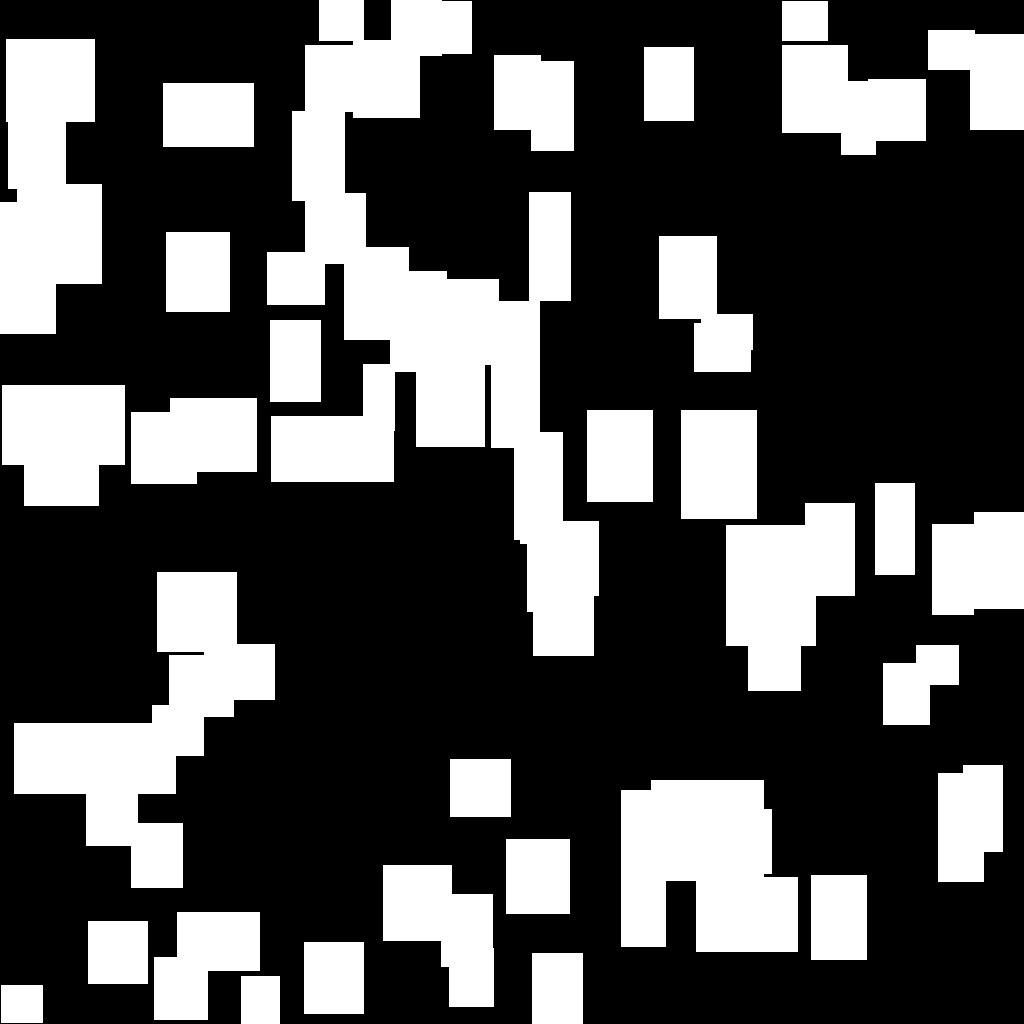wheat_head: (14, 723, 175, 793), (651, 780, 763, 880), (726, 525, 815, 645), (2, 385, 124, 464), (17, 184, 101, 283), (681, 410, 756, 518), (271, 416, 393, 481), (696, 877, 797, 951), (6, 39, 94, 121), (491, 301, 539, 447), (621, 790, 665, 946), (170, 398, 256, 471), (157, 572, 236, 651), (425, 279, 498, 364), (416, 357, 484, 446), (8, 84, 65, 188), (587, 410, 652, 501), (344, 247, 408, 339), (163, 83, 253, 146), (782, 45, 847, 132), (390, 271, 446, 371), (24, 432, 98, 505), (527, 533, 593, 611), (970, 34, 1024, 129), (383, 865, 451, 940), (353, 40, 419, 117), (166, 232, 229, 311), (938, 773, 983, 881), (0, 245, 55, 333), (974, 512, 1024, 608), (177, 912, 259, 970), (748, 600, 800, 690), (659, 236, 716, 318), (698, 809, 771, 873), (506, 839, 569, 913), (520, 432, 562, 543), (292, 111, 344, 200), (811, 875, 866, 959), (131, 412, 196, 483), (536, 521, 598, 595), (805, 503, 854, 595), (529, 192, 570, 300), (305, 193, 365, 263), (304, 942, 363, 1013), (270, 320, 320, 401), (533, 589, 593, 655), (169, 655, 233, 716), (204, 644, 274, 699), (305, 45, 363, 111), (531, 61, 573, 150), (932, 524, 973, 614), (441, 894, 492, 966), (88, 921, 147, 983), (644, 47, 693, 120), (532, 953, 582, 1024), (875, 483, 914, 574), (868, 79, 925, 140), (450, 759, 510, 816), (494, 55, 540, 129), (514, 436, 547, 539), (963, 765, 1002, 851), (154, 957, 207, 1019), (131, 823, 182, 887), (267, 252, 324, 304), (883, 663, 929, 724), (86, 790, 137, 845), (391, 0, 441, 55), (694, 323, 750, 371), (421, 1, 471, 53), (449, 948, 493, 1006), (152, 705, 203, 755), (841, 81, 875, 154), (363, 364, 394, 430), (241, 976, 279, 1024), (928, 30, 974, 69), (701, 314, 752, 349), (319, 0, 363, 40), (782, 1, 827, 40), (0, 202, 30, 260), (916, 645, 958, 684), (1, 985, 42, 1022)
